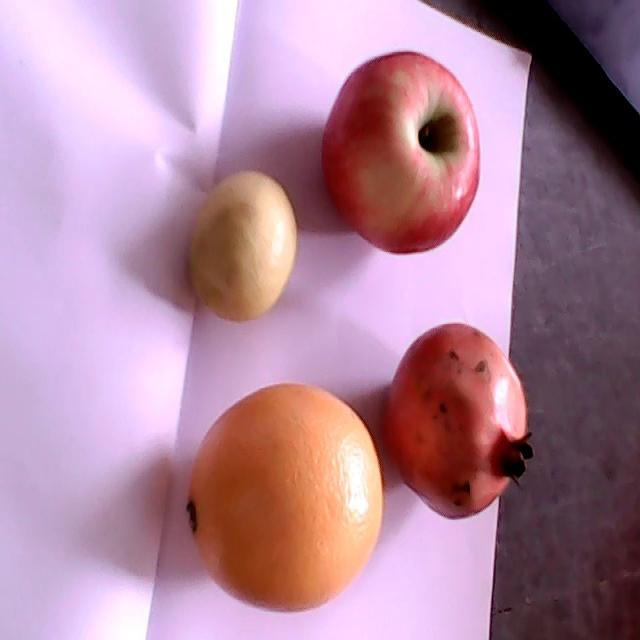apple: (321, 52, 480, 254)
lemon: (187, 169, 298, 323)
orange: (189, 382, 384, 615)
pomegranate: (381, 323, 537, 522)
